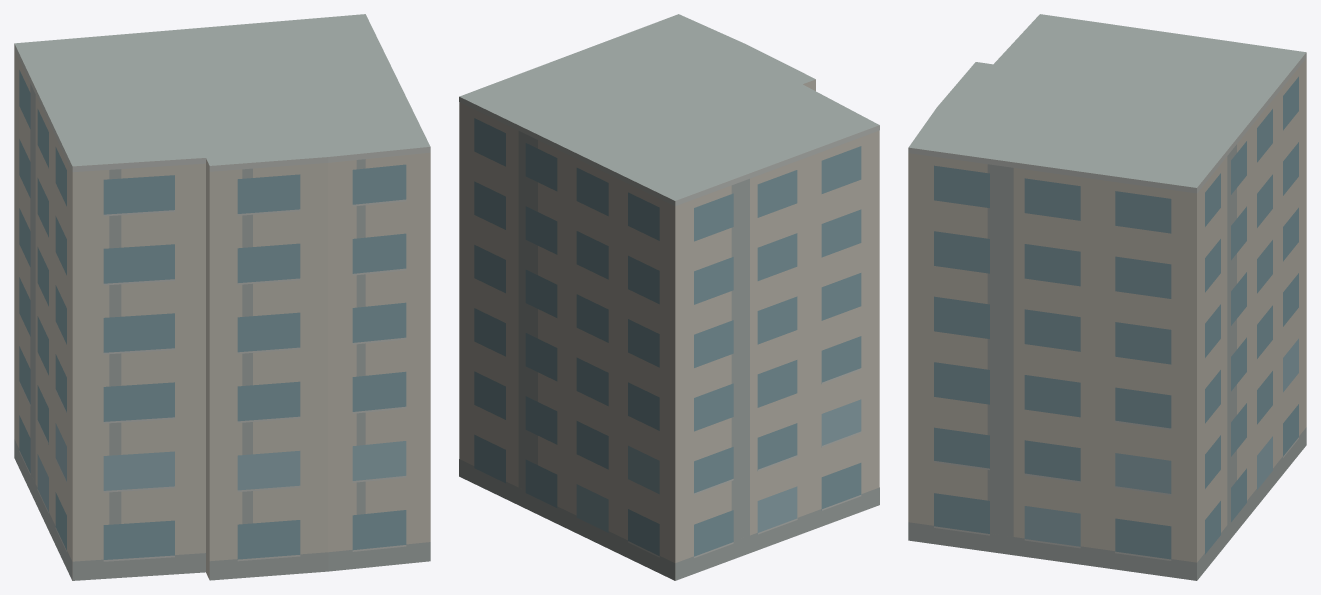
File: survey-upis-32889809.glb
3 views of the same model, side by side, from view 1: azimuth 30°, elevation 25°; view 2: azimuth 150°, elevation 25°; view 3: azimuth 270°, elevation 25° (orthographic). The views are drawn at different scales.
Visible parts, largest first — view 1: survey-upis-32889809.tmp; view 2: survey-upis-32889809.tmp; view 3: survey-upis-32889809.tmp.
Boxes of the visible parts, x1,y1,x2,y2 form: survey-upis-32889809.tmp: [14, 14, 430, 580]; survey-upis-32889809.tmp: [459, 14, 879, 580]; survey-upis-32889809.tmp: [908, 14, 1306, 580].
Size of the model in its own units: 16.43 by 17.3 by 15.9.
